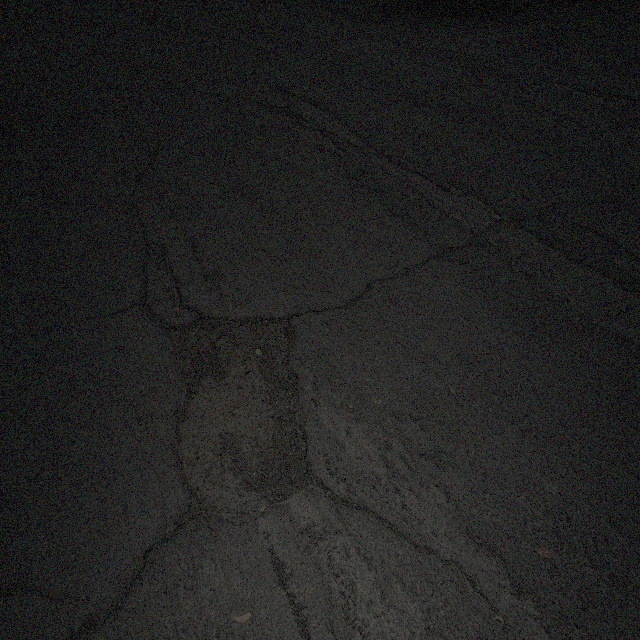pothole: (170, 304, 314, 522)
